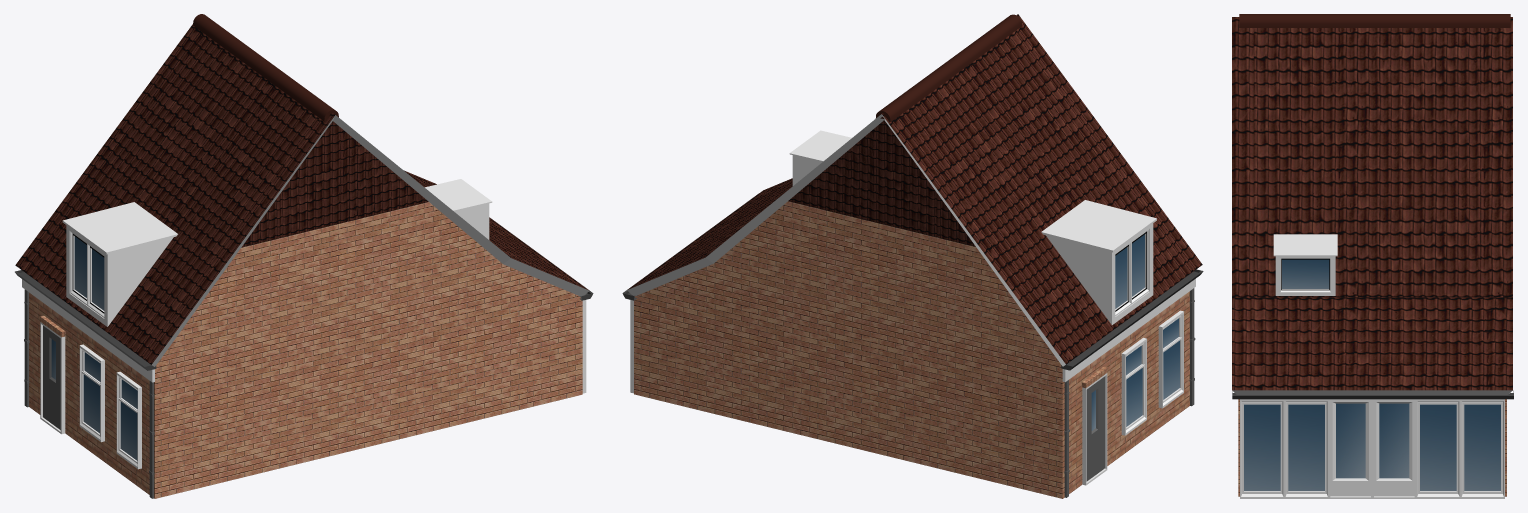
Rendered from It_Bûthús_21.fbx.
3 renders of one model, left to right at view 1: azimuth 30°, elevation 25°; view 2: azimuth 150°, elevation 25°; view 3: azimuth 270°, elevation 25°, orthographic. The views are drawn at different scales.
Visible parts, largest first — view 1: It_Bûthús_21; view 2: It_Bûthús_21; view 3: It_Bûthús_21.
Boxes of the visible parts, x1,y1,x2,y2 form: It_Bûthús_21: [15, 14, 593, 498]; It_Bûthús_21: [622, 14, 1203, 498]; It_Bûthús_21: [1232, 14, 1513, 498].
Bounding box in the file's own units: 1147 × 848 × 609.
